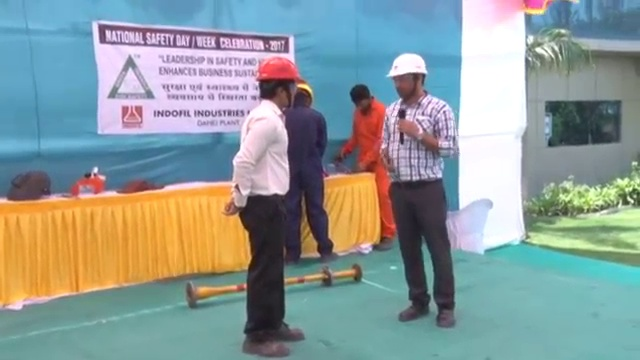helmet: (256, 55, 308, 84), (385, 53, 429, 78), (295, 82, 315, 101)
helmet_off: (350, 84, 374, 114)
helmet_on: (255, 55, 308, 116), (384, 52, 429, 102), (294, 80, 316, 115)
person: (224, 54, 306, 351), (384, 51, 461, 328), (287, 80, 339, 259), (340, 84, 396, 250)
